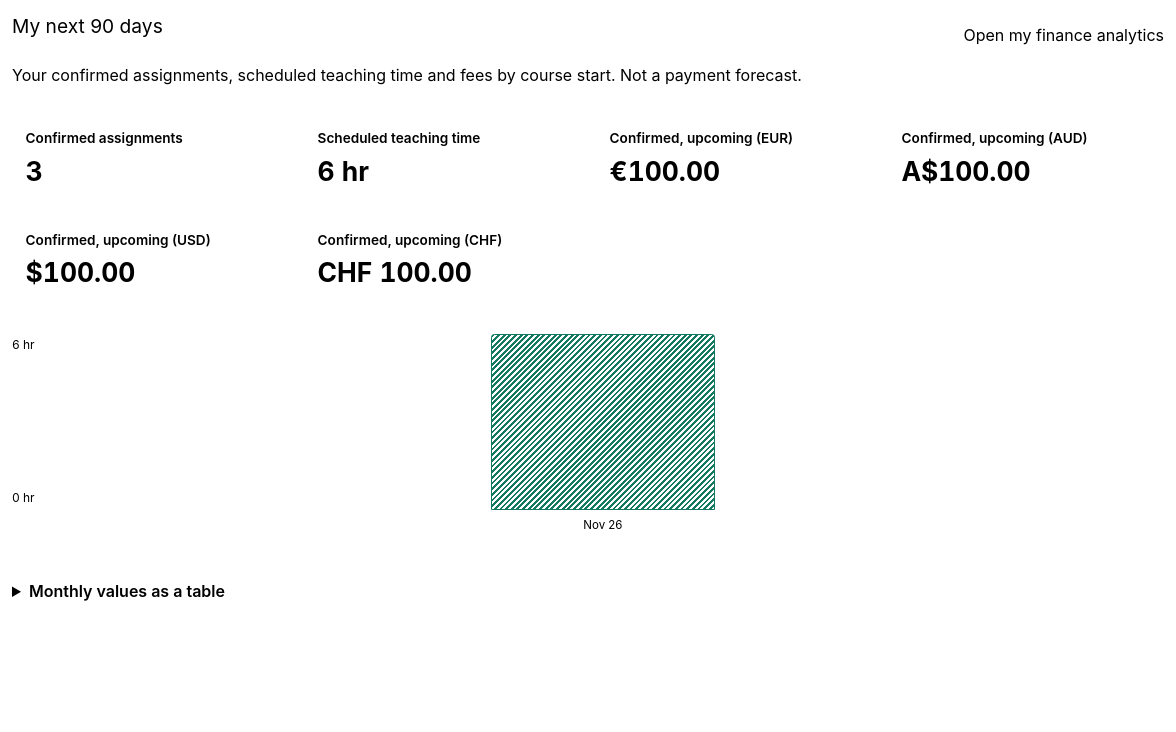
requests only the actor's next 90 days for the private profile outlook
The width and height of the screenshot is (1176, 732).
Expected: the text "6 hr" next to "€100.00" is shown, [318,154,369,186]
Click the heading "Monthly values as a table" at [127, 591], box [29,581,225,601]
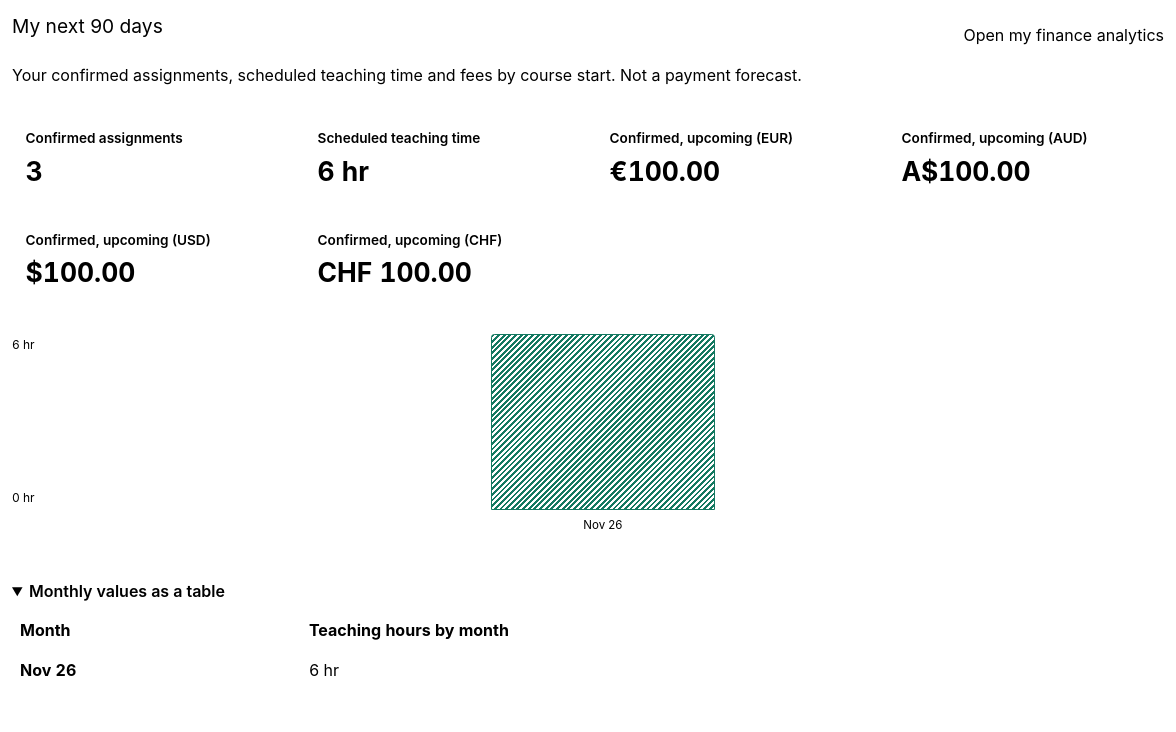
Result: the text "6 hr" is shown at [301,650,1164,690]
Click the heading "Monthly values as a table" at [127, 591], box [29,581,225,601]
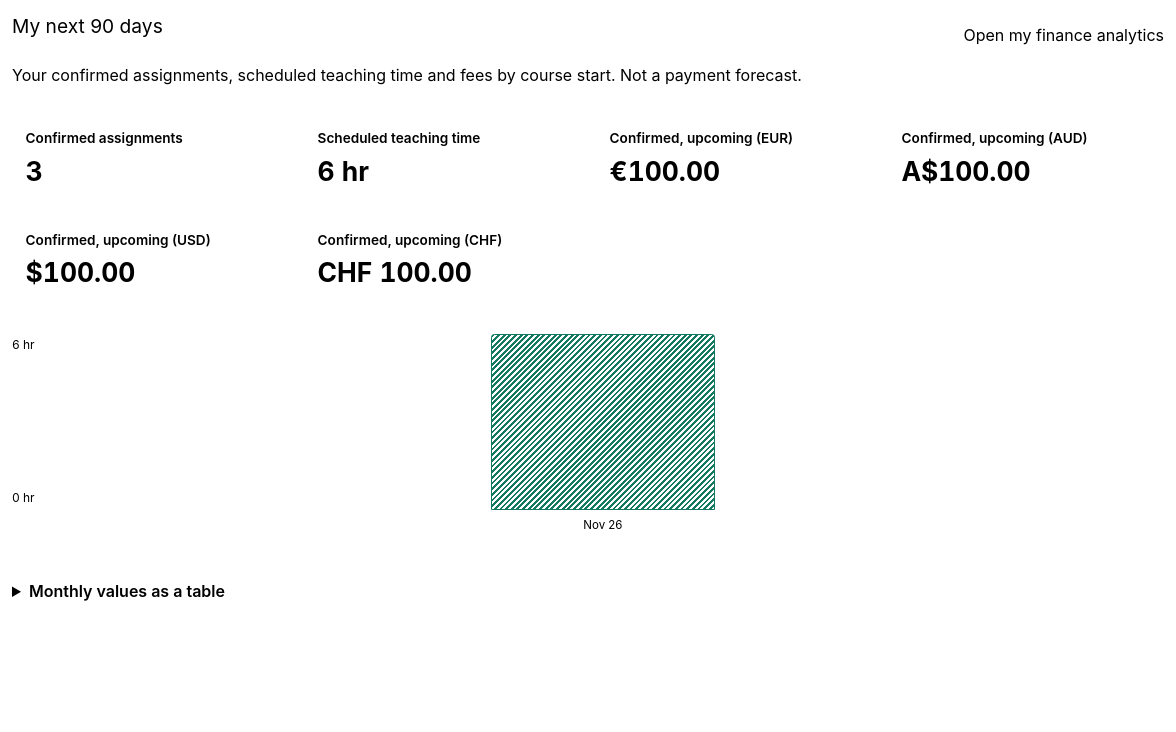
Result: the table is gone
